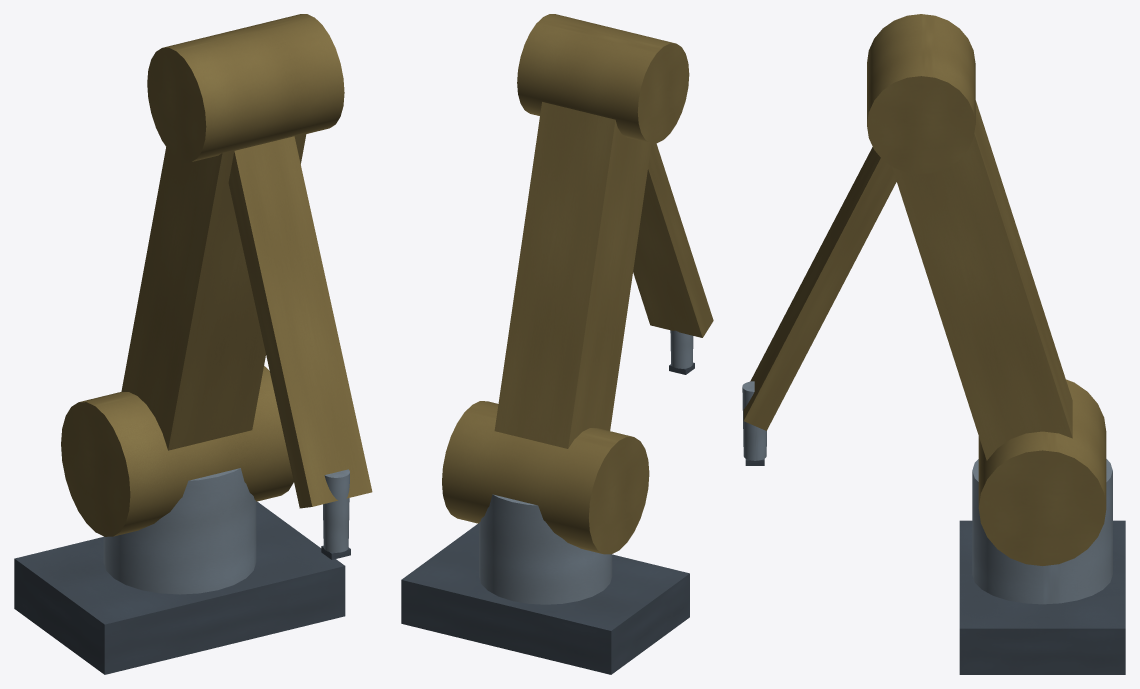
The model's file is robot-arm-02.glb.
3 renders of one model, left to right at view 1: azimuth 30°, elevation 25°; view 2: azimuth 150°, elevation 25°; view 3: azimuth 270°, elevation 25°, orthographic. The views are drawn at different scales.
Parts seen in each view (by area): view 1: shoulder, elbow, base, base-yaw, end-effector; view 2: shoulder, elbow, base, base-yaw, end-effector; view 3: shoulder, elbow, base, base-yaw, end-effector.
Boxes of the visible parts, <box> form: shoulder: <box>61,132,306,536</box>; elbow: <box>147,14,372,508</box>; base: <box>14,501,345,674</box>; base-yaw: <box>103,468,256,594</box>; end-effector: <box>323,469,349,552</box>; shoulder: <box>442,102,651,554</box>; elbow: <box>517,14,713,337</box>; base: <box>401,523,689,674</box>; base-yaw: <box>479,494,612,604</box>; end-effector: <box>670,330,693,368</box>; shoulder: <box>892,100,1106,565</box>; elbow: <box>743,14,975,430</box>; base: <box>959,520,1125,674</box>; base-yaw: <box>972,459,1112,604</box>; end-effector: <box>742,381,766,460</box>.
Bounding box in the file's own units: 0.4 × 0.995 × 0.6.
3 materials, 3 textured.
